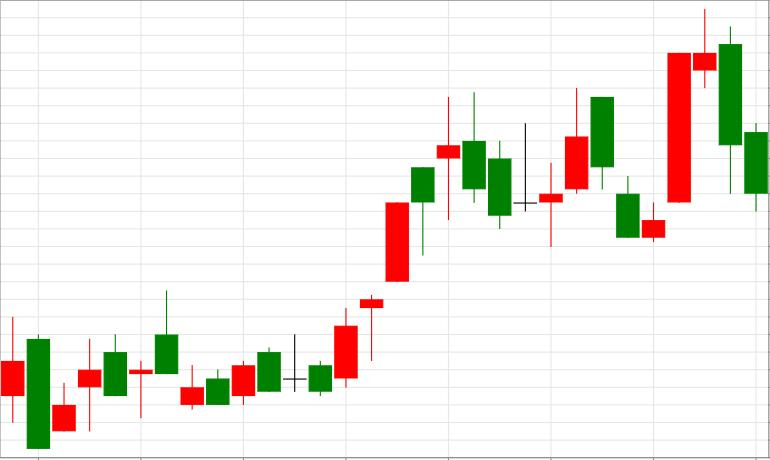hanging_man_fall: (309, 167, 434, 396)
